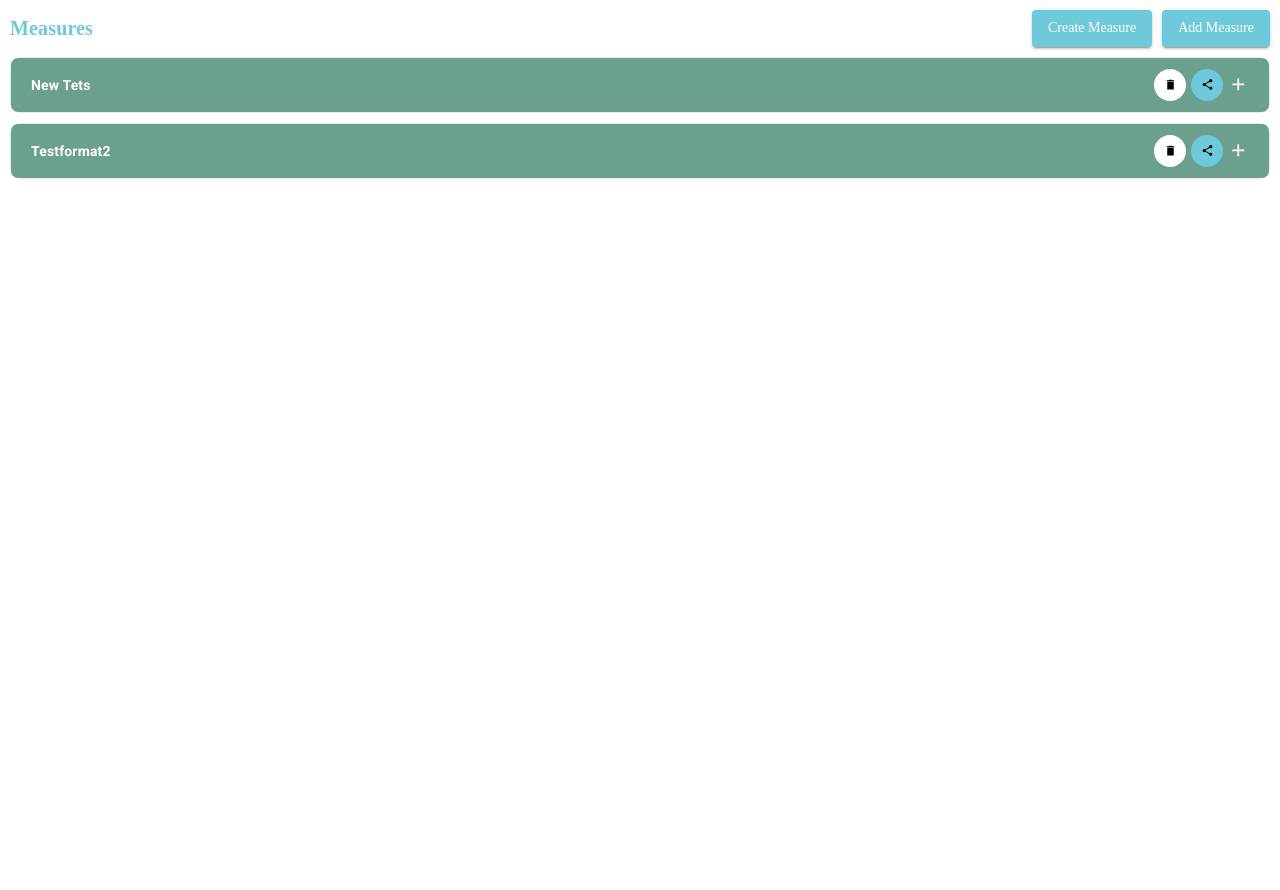
it: Therapist response measures › Should render therapist view response format2 and format2
Click the icon with test id "toggleContent1": (1239, 150) [1228,140,1249,161]
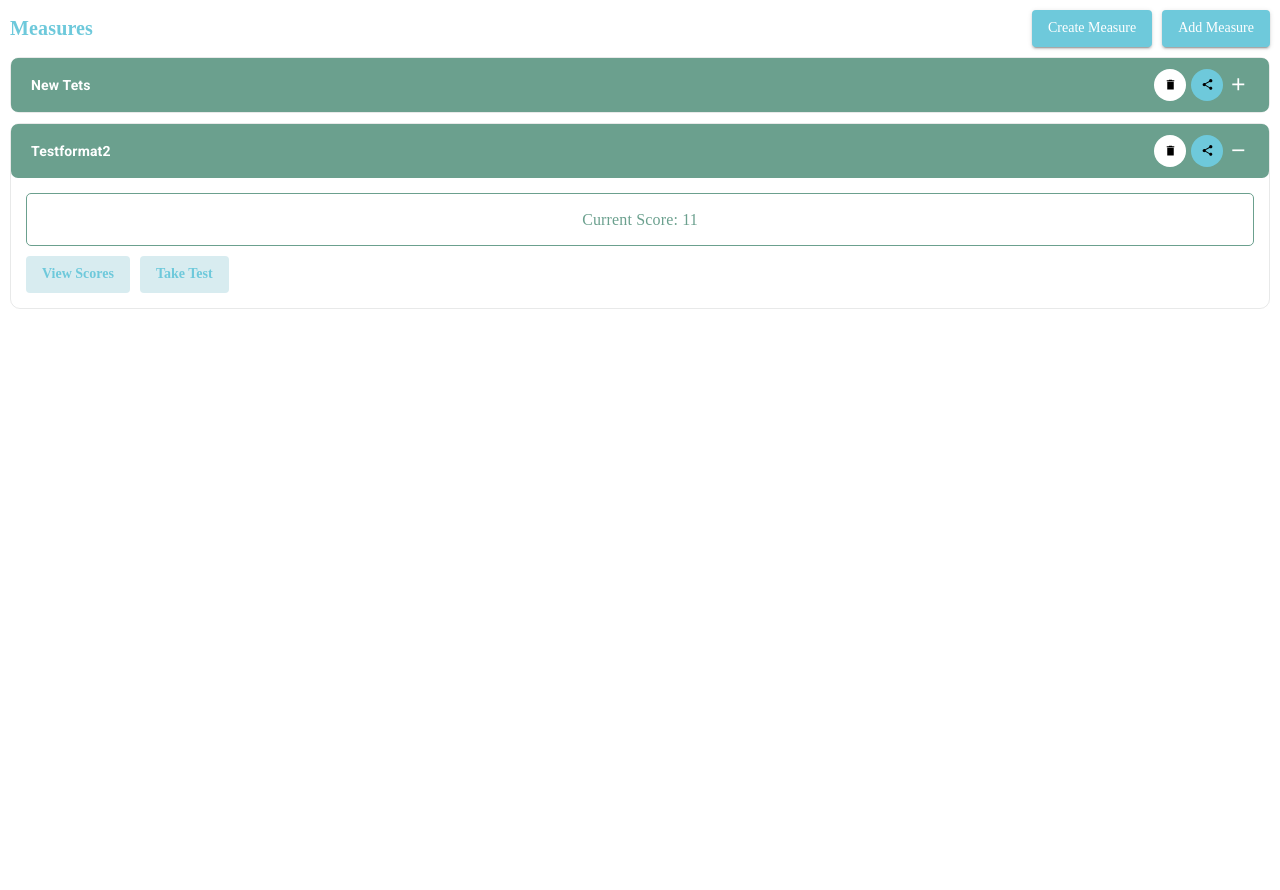
Click the button with test id "view_score1": (78, 274) [26,256,130,293]
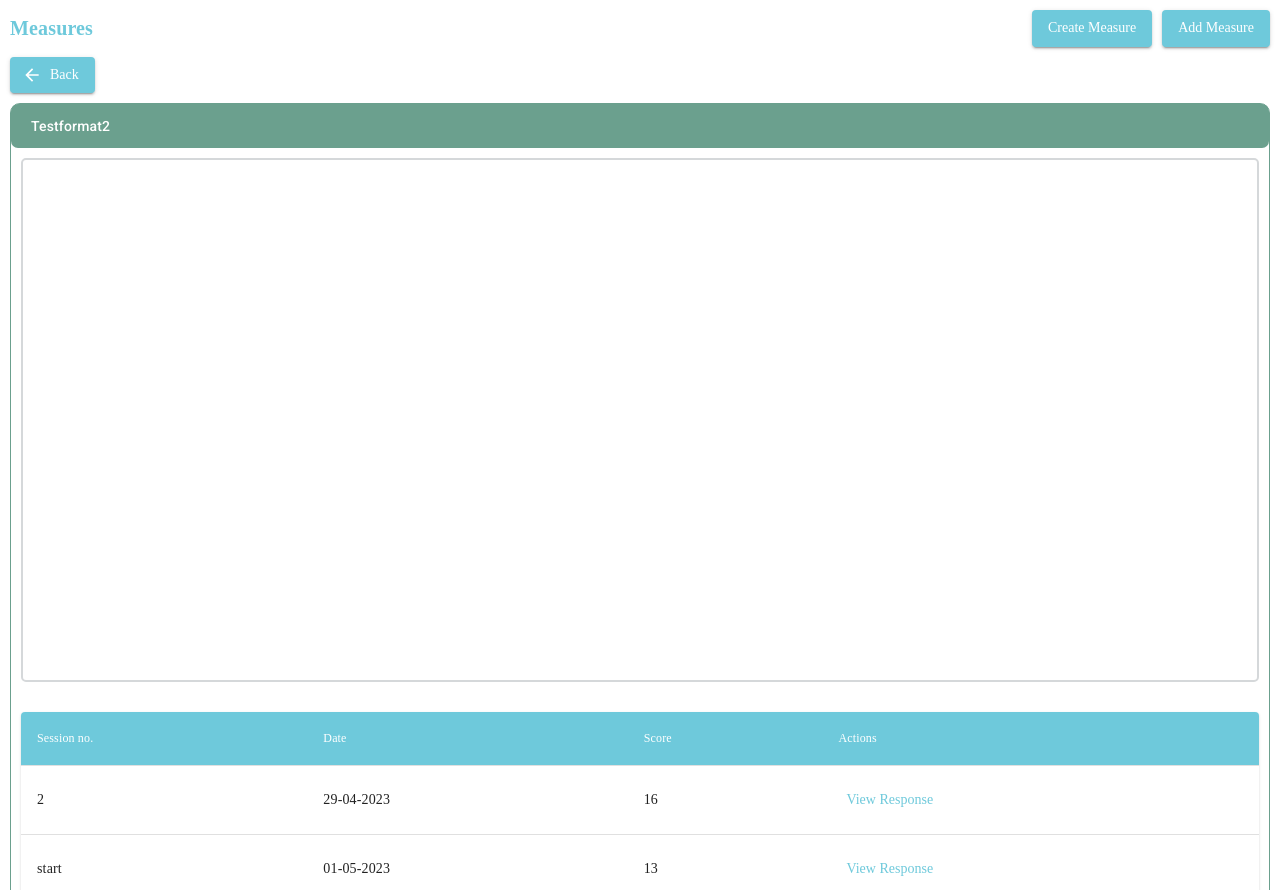
expect the button with test id "view-response-99503033-6e0f-4575-bd73-a86f421b1e63" is shown: met
Click the button with test id "view-response-99503033-6e0f-4575-bd73-a86f421b1e63": (890, 800) [838,782,941,818]
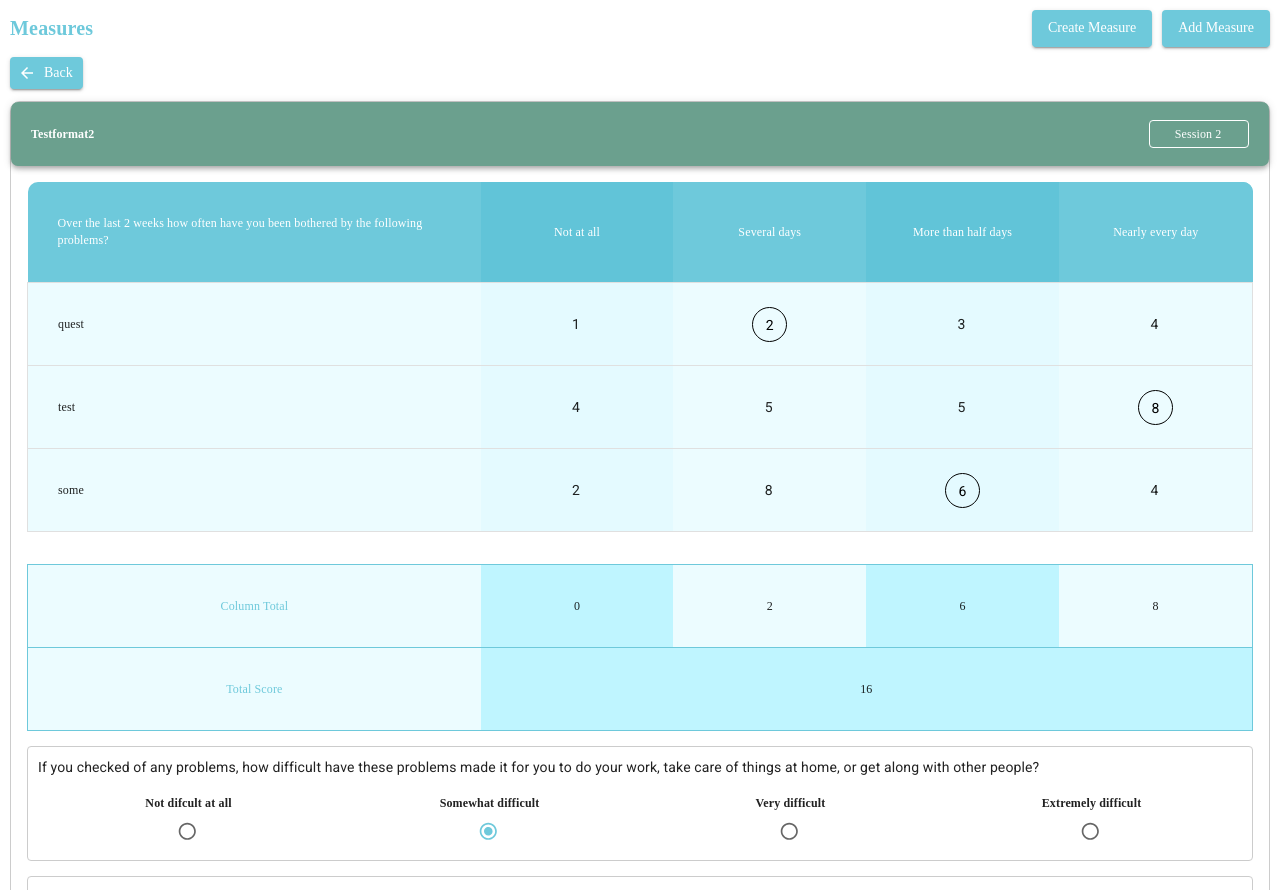
expect the number of text boxes "16" is 1: met, box [511,680,1222,698]
Click the button with test id "backButton": (46, 73) [10,56,83,89]
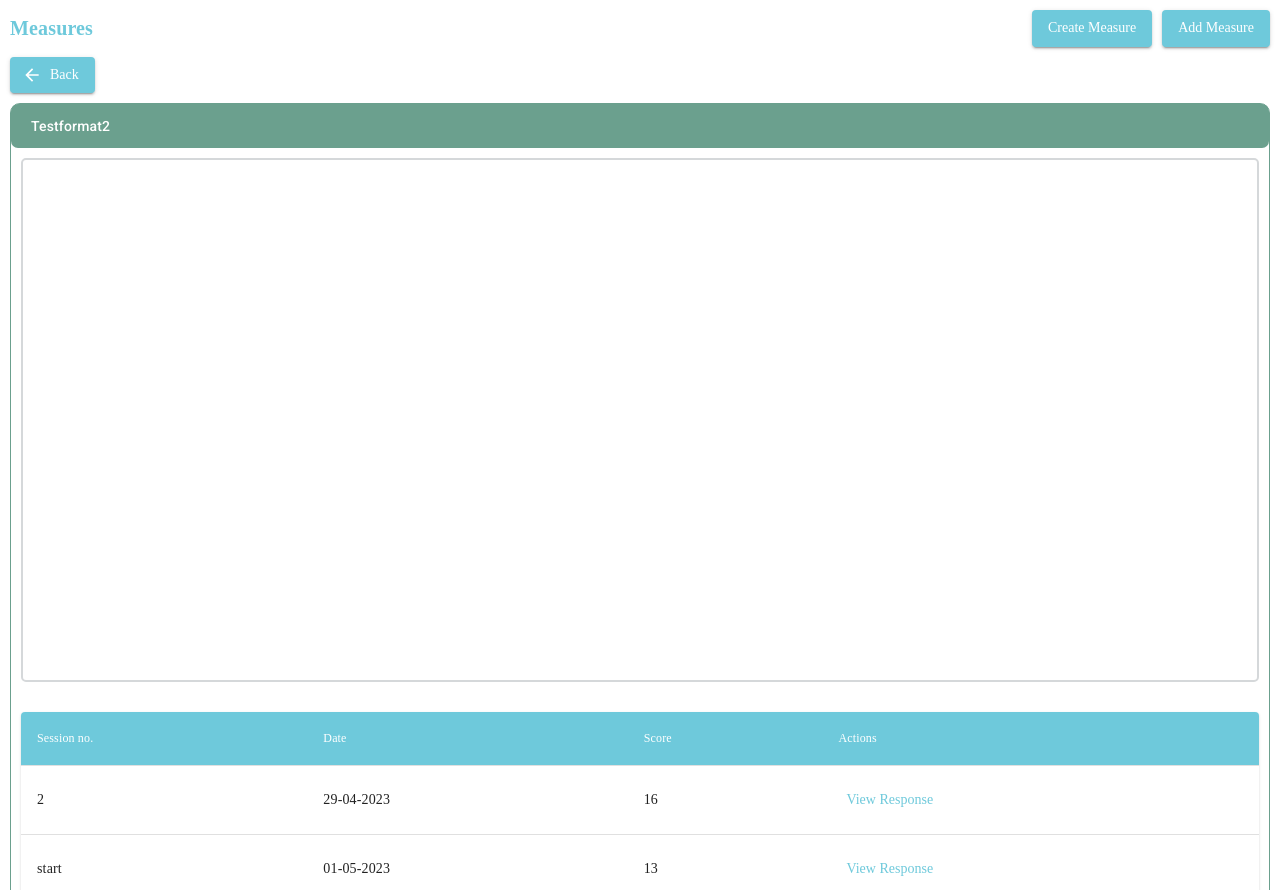
expect the button with test id "view-response-5a02fb07-c867-4f38-87ff-58bd241fc385" is shown: met
Click the button with test id "view-response-5a02fb07-c867-4f38-87ff-58bd241fc385": (890, 869) [838,851,941,888]
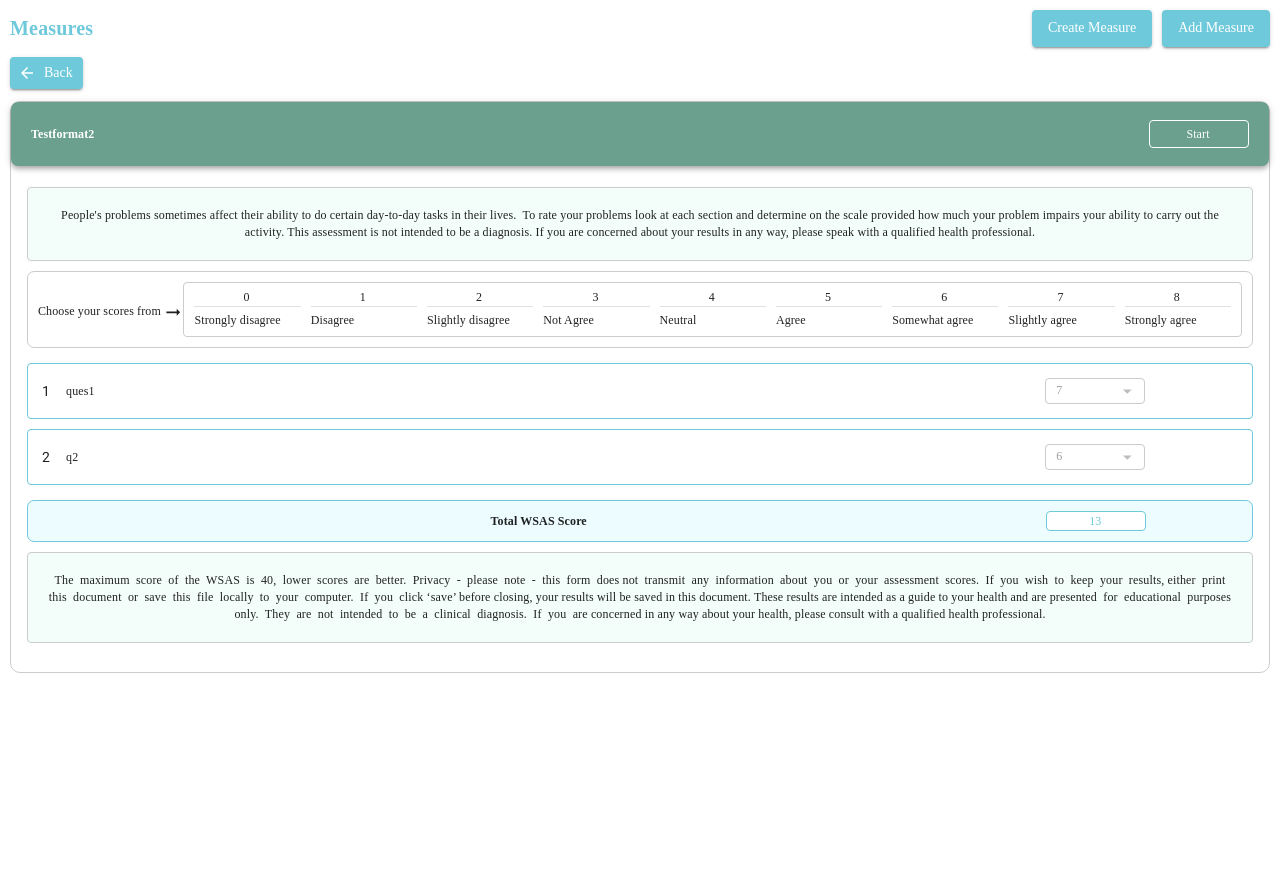
expect the text "13" is shown once: met, box [1089,514,1101,528]
